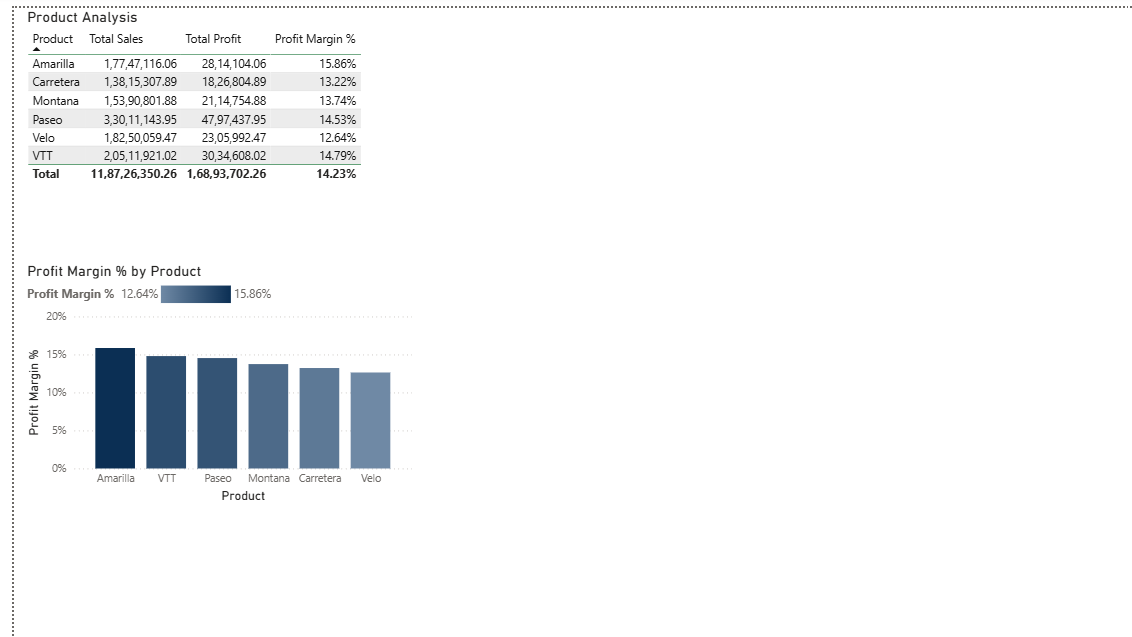

Layout of this report page (visuals, bound fields, positions):
{"tool":"powerbi","page":{"name":"Product Analysis","canvas":[1280,720],"ordinal":2},"visuals":[{"type":"tableEx","title":"Product Analysis","fields":{"Values":["financials.Product","financials.Total Sales","financials.Total Profit","financials.Profit Margin %"]},"box":[9.8,0,450.1,279.9],"z":0},{"type":"clusteredColumnChart","fields":{"Category":["financials.Product"],"Y":["financials.Profit Margin %"]},"box":[9.8,290,450,280],"z":1000}]}

Visuals, with their boxes in screenshot pixels (x1, y1, x2, y2), scaled from the page's 1280x720 canvas onto the 1132x637 screenshot:
"Product Analysis" tableEx: l=9, t=0, r=407, b=248
clusteredColumnChart - financials.Product x financials.Profit Margin %: l=9, t=257, r=407, b=504
